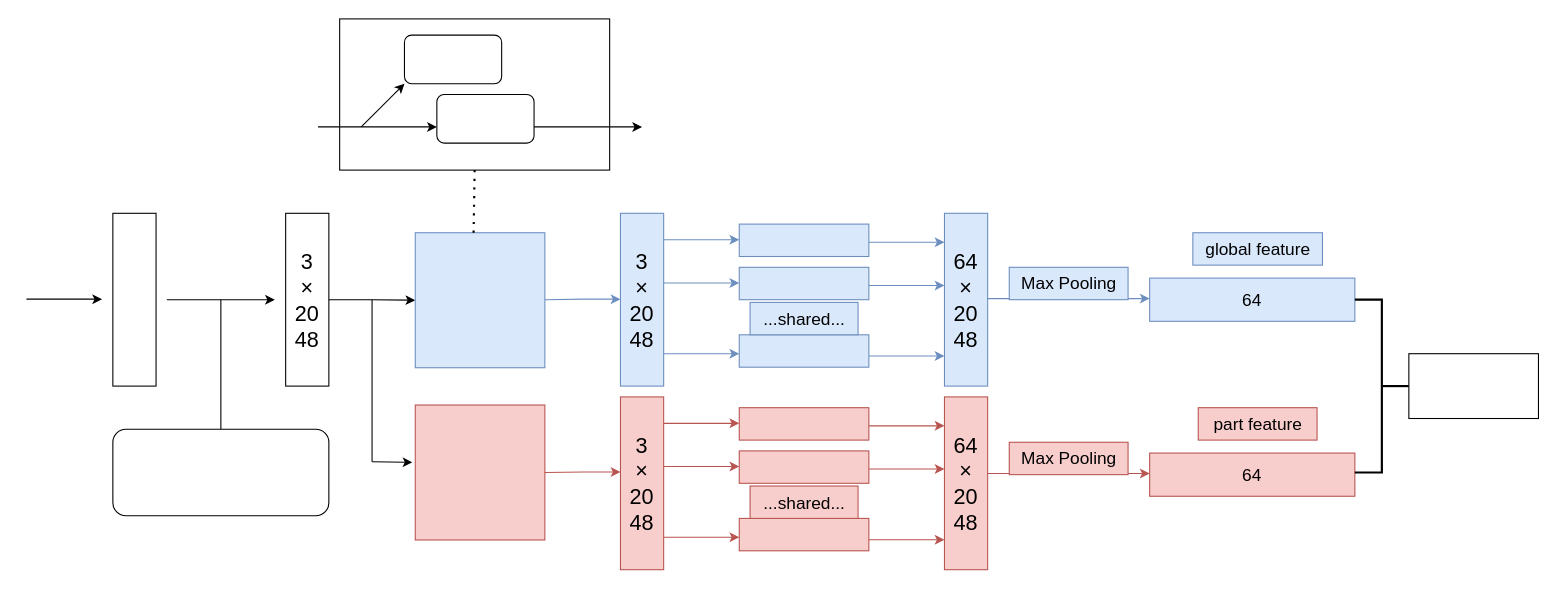
Some shapes in this 1557 by 589 pixel diagram are drawn without their labels. Here are the shapes that lost their labels. From the top down, the centre of each, then its label:
the point at 452,59: T-Net
the point at 485,118: Matrix Multiply
the point at 134,299: 3 * n
the point at 479,300: input transform
the point at 1473,385: MFGNet
the point at 220,472: find P={max(Pi,{Po})} i=1,2,3……2048
the point at 479,472: G(P,E)
